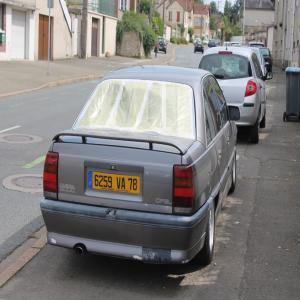Vehicle-registration-plate: (88, 172, 142, 194)
